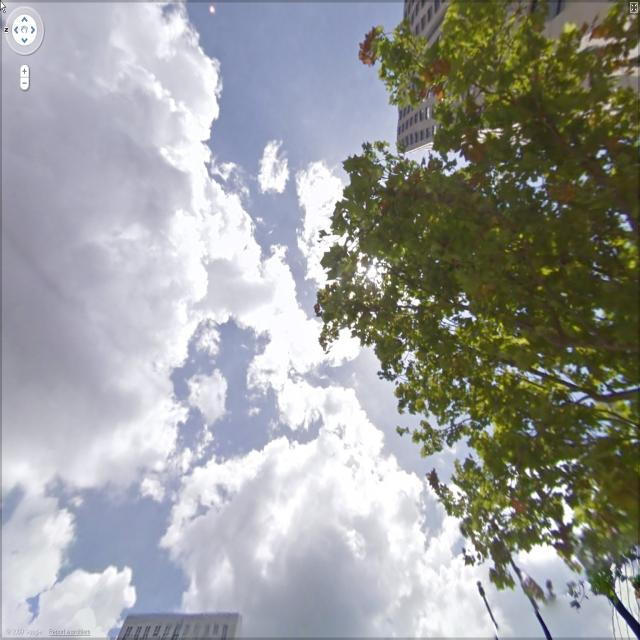b_2: (387, 0, 640, 172), (105, 594, 255, 640)
